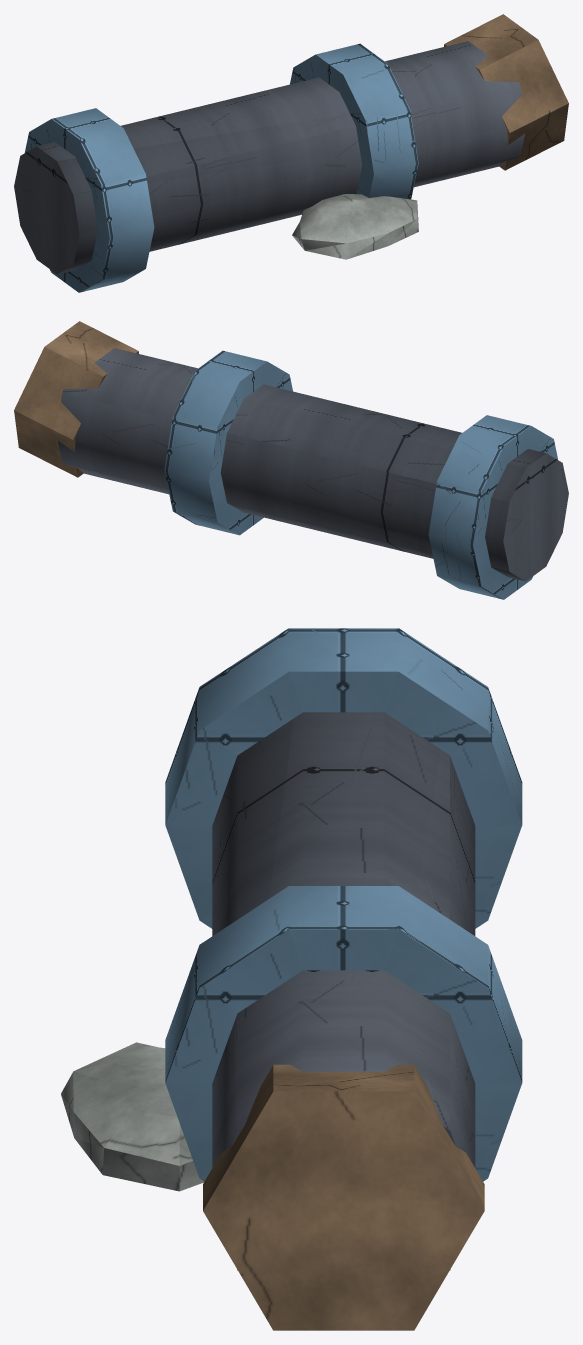
Rendered from pipe_segment.glb.
3 views of the same model, one above another, from view 1: azimuth 30°, elevation 25°; view 2: azimuth 150°, elevation 25°; view 3: azimuth 270°, elevation 25° (orthographic). The views are drawn at different scales.
Parts seen in each view (by area): view 1: DL010_PipeSegment_metal_dark, DL010_PipeSegment_faded_blue, DL010_PipeSegment_corrosion, DL010_PipeSegment_mineral; view 2: DL010_PipeSegment_metal_dark, DL010_PipeSegment_faded_blue, DL010_PipeSegment_corrosion; view 3: DL010_PipeSegment_faded_blue, DL010_PipeSegment_metal_dark, DL010_PipeSegment_corrosion, DL010_PipeSegment_mineral.
Boxes of the visible parts, left/top/right/bottom form: DL010_PipeSegment_metal_dark: left=14, top=41, right=524, bottom=274; DL010_PipeSegment_faded_blue: left=25, top=43, right=418, bottom=292; DL010_PipeSegment_corrosion: left=444, top=14, right=568, bottom=170; DL010_PipeSegment_mineral: left=292, top=194, right=418, bottom=259; DL010_PipeSegment_metal_dark: left=58, top=348, right=568, bottom=581; DL010_PipeSegment_faded_blue: left=164, top=350, right=557, bottom=599; DL010_PipeSegment_corrosion: left=14, top=321, right=138, bottom=477; DL010_PipeSegment_faded_blue: left=165, top=628, right=522, bottom=1181; DL010_PipeSegment_metal_dark: left=212, top=712, right=475, bottom=1270; DL010_PipeSegment_corrosion: left=203, top=1064, right=484, bottom=1330; DL010_PipeSegment_mineral: left=61, top=1042, right=203, bottom=1191.
Bounding box in the file's own units: 2.46 × 0.7228 × 0.9829.
4 materials, 4 textured.
